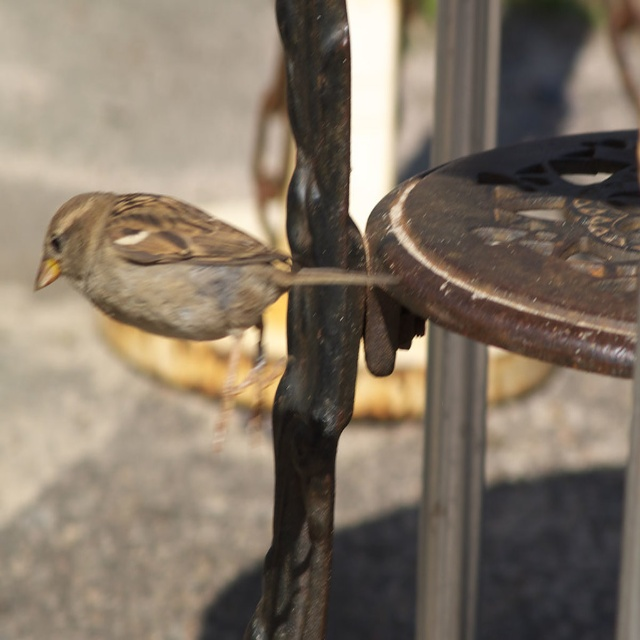Sparrow: (34, 183, 402, 438)
